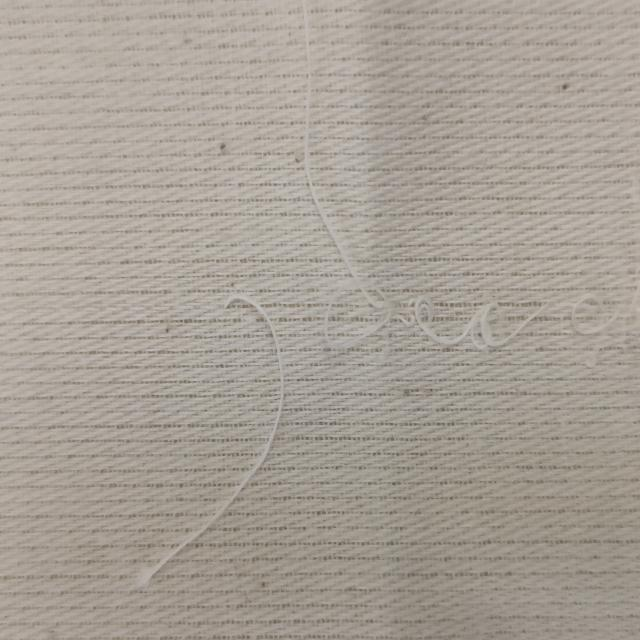Thread_other: (59, 22, 640, 611)
